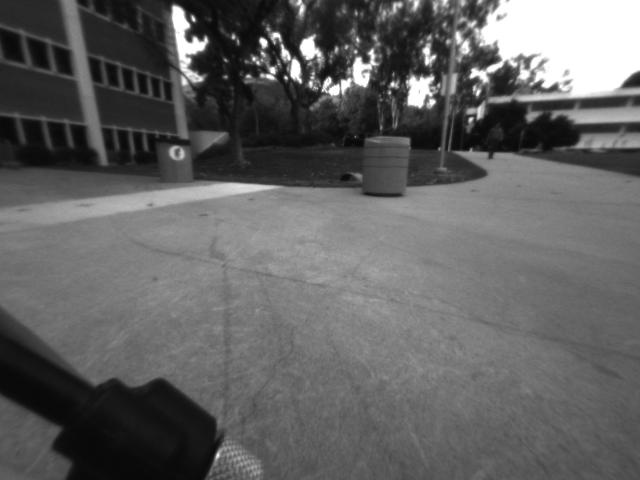trashcan: (356, 123, 415, 202), (144, 129, 202, 186)
